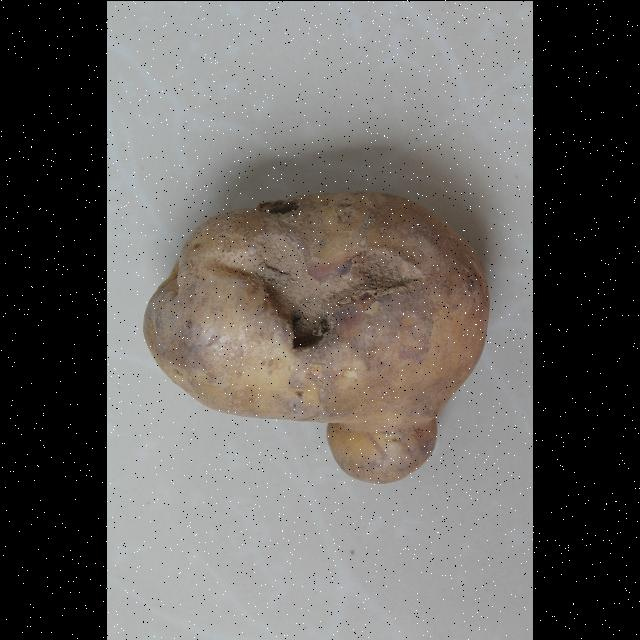Diseased-fungal potato: (138, 185, 490, 483)
